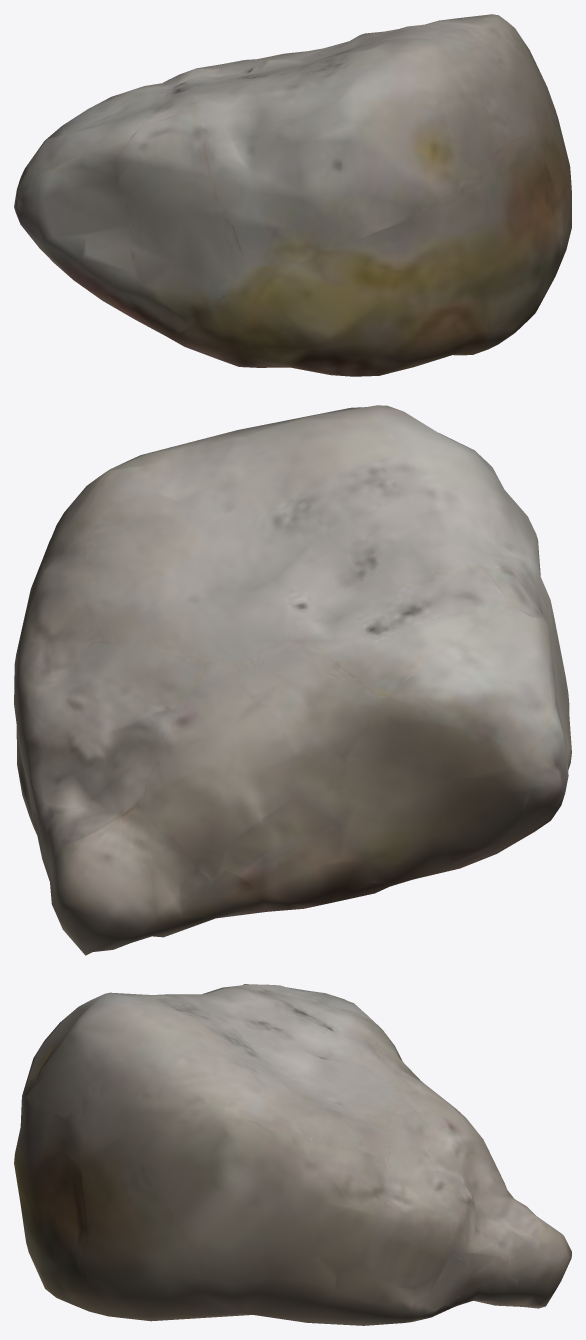
File: hall.glb
3 renders of one model, top to bottom at view 1: azimuth 30°, elevation 25°; view 2: azimuth 150°, elevation 25°; view 3: azimuth 270°, elevation 25°, orthographic. The views are drawn at different scales.
Size of the model in its own units: 0.4131 by 0.2537 by 0.4428.
1 material, 1 textured.
